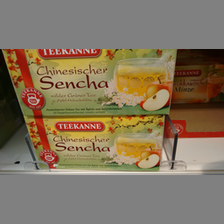tea: (2, 49, 178, 117), (23, 115, 169, 172)
